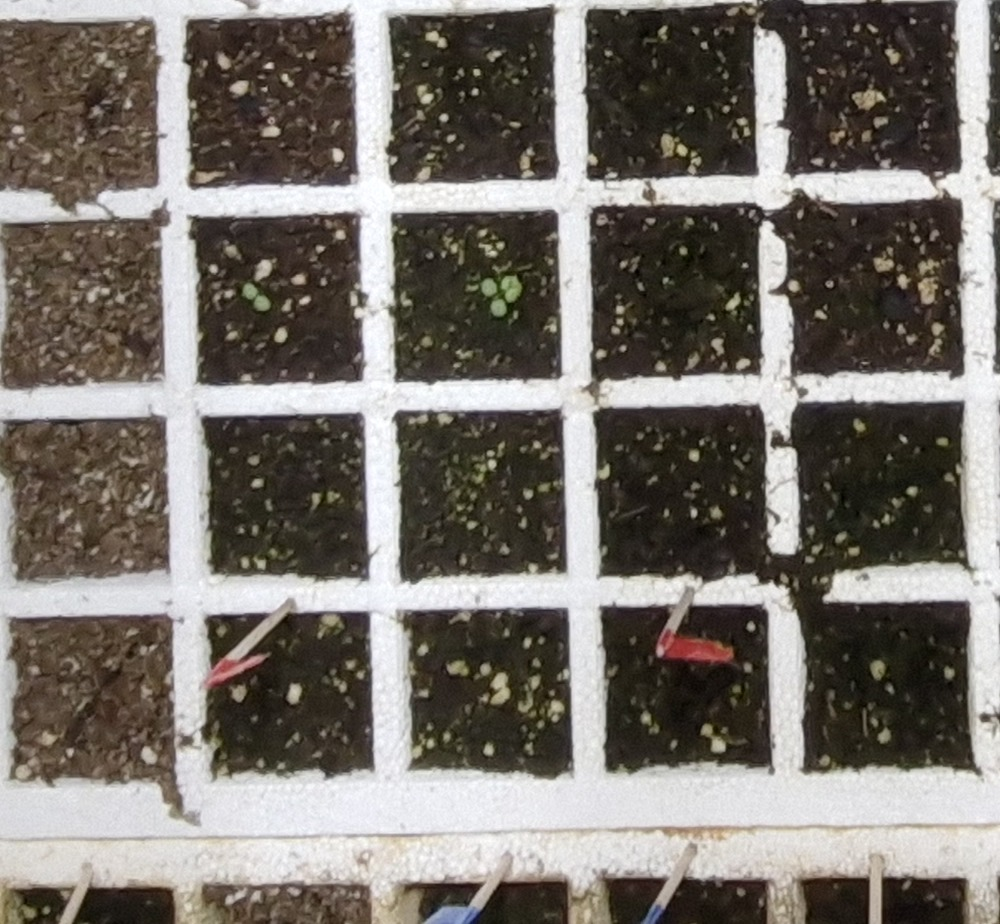Folha: (501, 275, 522, 302), (480, 279, 498, 295), (242, 282, 258, 299), (255, 296, 271, 312), (491, 300, 508, 315)
Germinacao: (481, 276, 522, 316), (242, 283, 272, 312)
